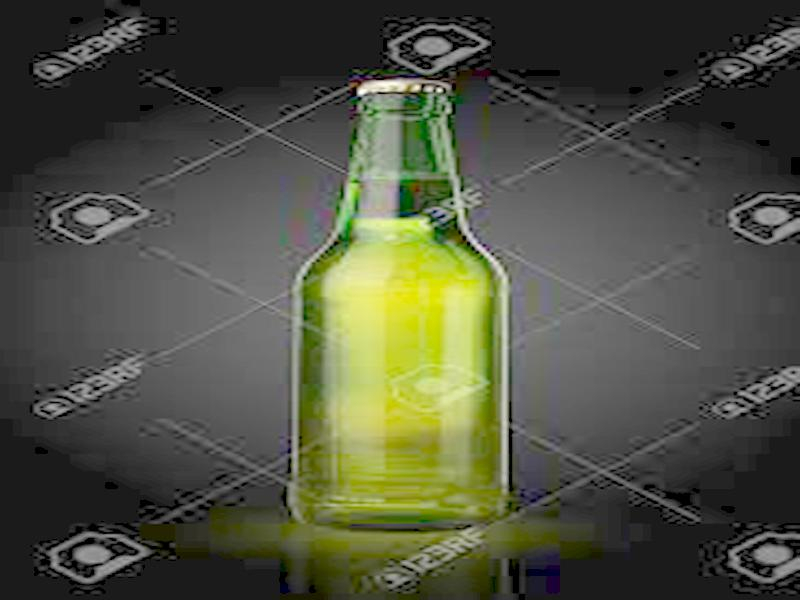Beer: (297, 79, 511, 528)
